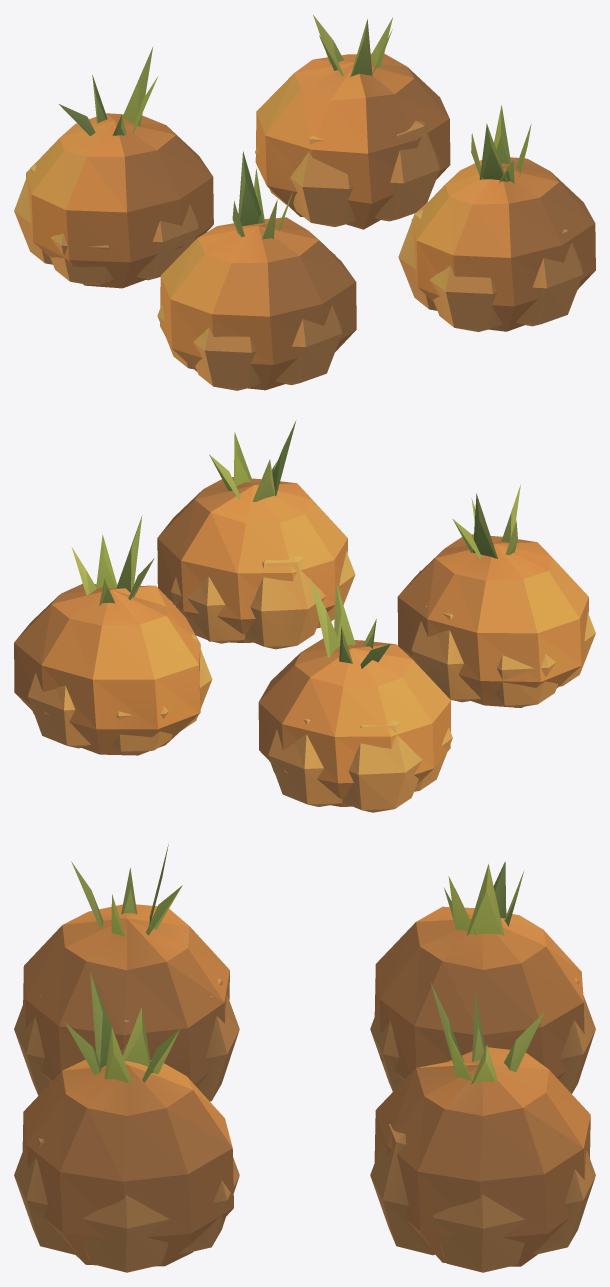
File: pumpkin.glb
3 views of the same model, one above another, from view 1: azimuth 30°, elevation 25°; view 2: azimuth 150°, elevation 25°; view 3: azimuth 270°, elevation 25° (orthographic). The views are drawn at different scales.
Parts seen in each view (by area): view 1: pumpkin; view 2: pumpkin; view 3: pumpkin.
Part boxes in pixels (x1,y1,x2,y2): pumpkin: (14, 15, 595, 390); pumpkin: (14, 420, 595, 812); pumpkin: (14, 844, 595, 1272).
Size of the model in its own units: 1.14 by 0.5715 by 1.11.
